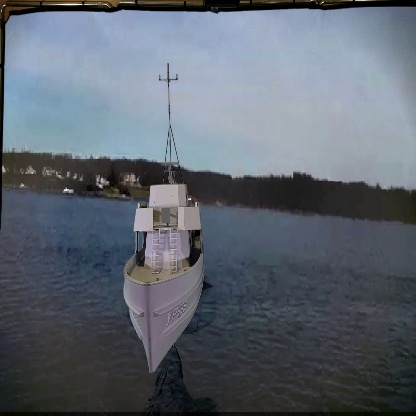YP689: (125, 58, 206, 375)
